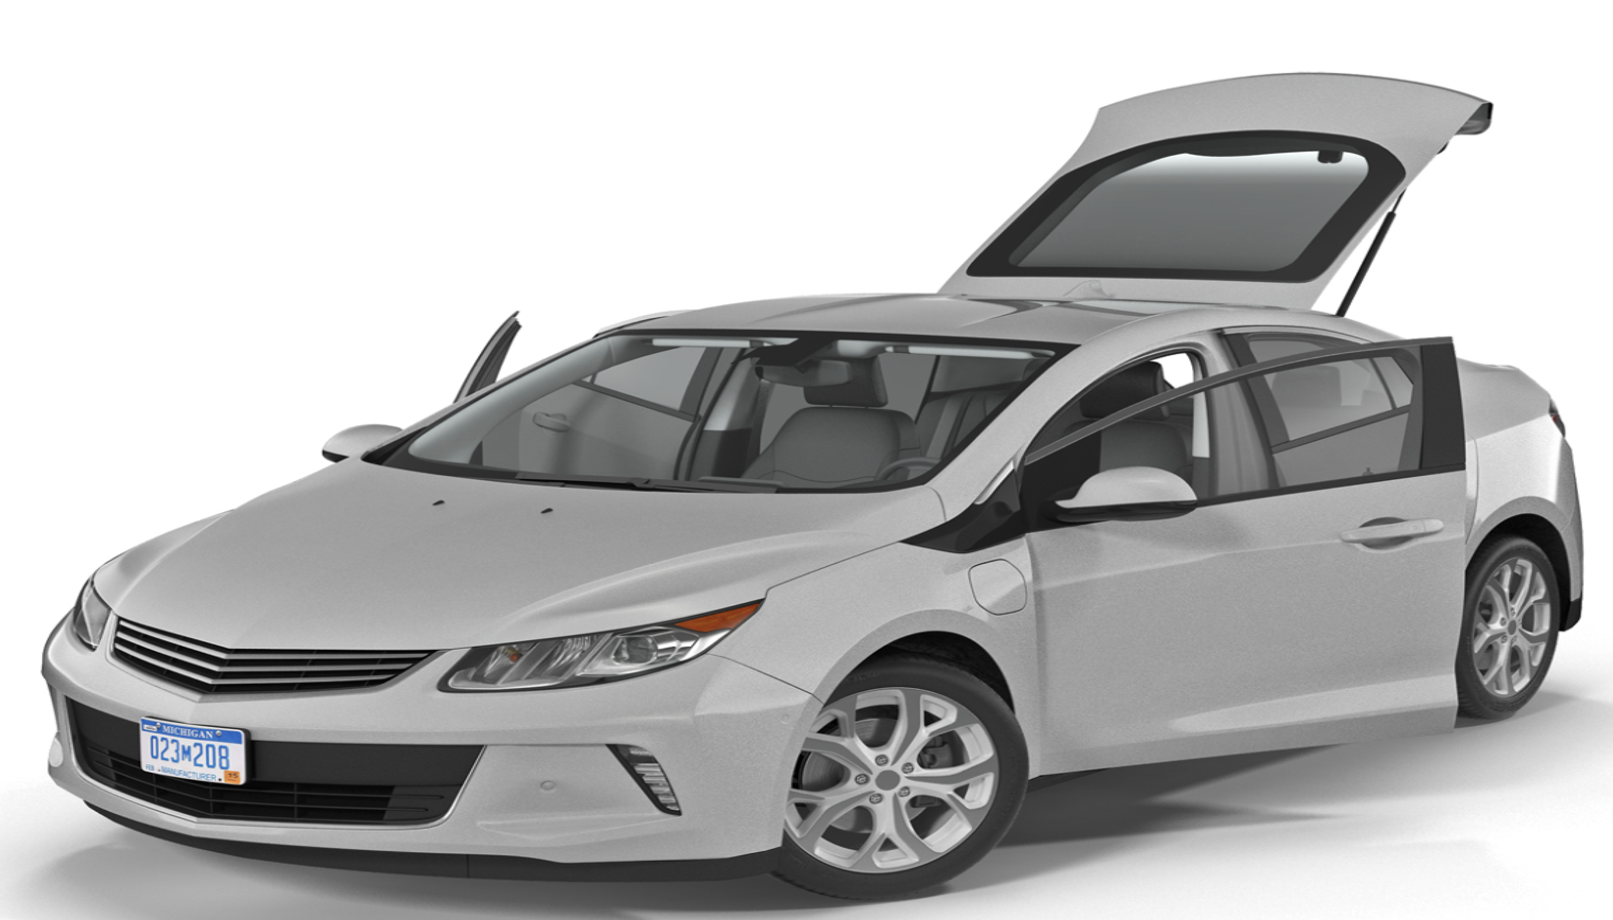hatch: (963, 555, 1036, 623)
